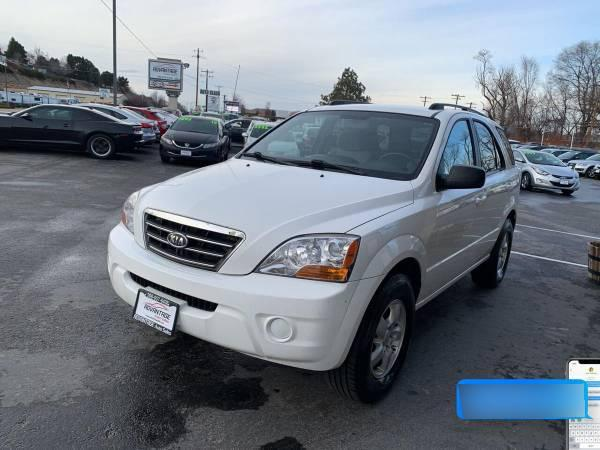Front_Bumper: (100, 227, 383, 369)
Front_Fender: (348, 173, 440, 307)
Front_Left_Door: (430, 182, 486, 300)
Front_Left_Window: (437, 118, 485, 189)
Front_Windshield: (231, 113, 434, 181)
Grille: (142, 208, 247, 275)
Hood: (131, 159, 414, 274)
Left_Headlight: (247, 230, 358, 284)
Rear_Fender: (492, 127, 522, 213)
Rear_Left_Door: (478, 170, 512, 265)
Rear_Left_Window: (476, 120, 509, 179)
Right_Headlight: (121, 191, 138, 235)
Roof: (303, 101, 498, 184)
Wheel: (349, 275, 416, 399), (491, 225, 515, 284)
